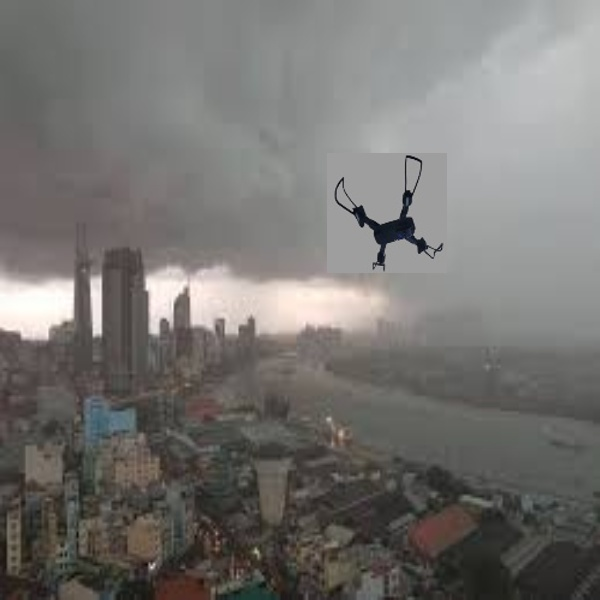drone: (327, 147, 447, 273)
